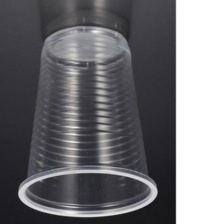glass: (13, 19, 162, 219)
